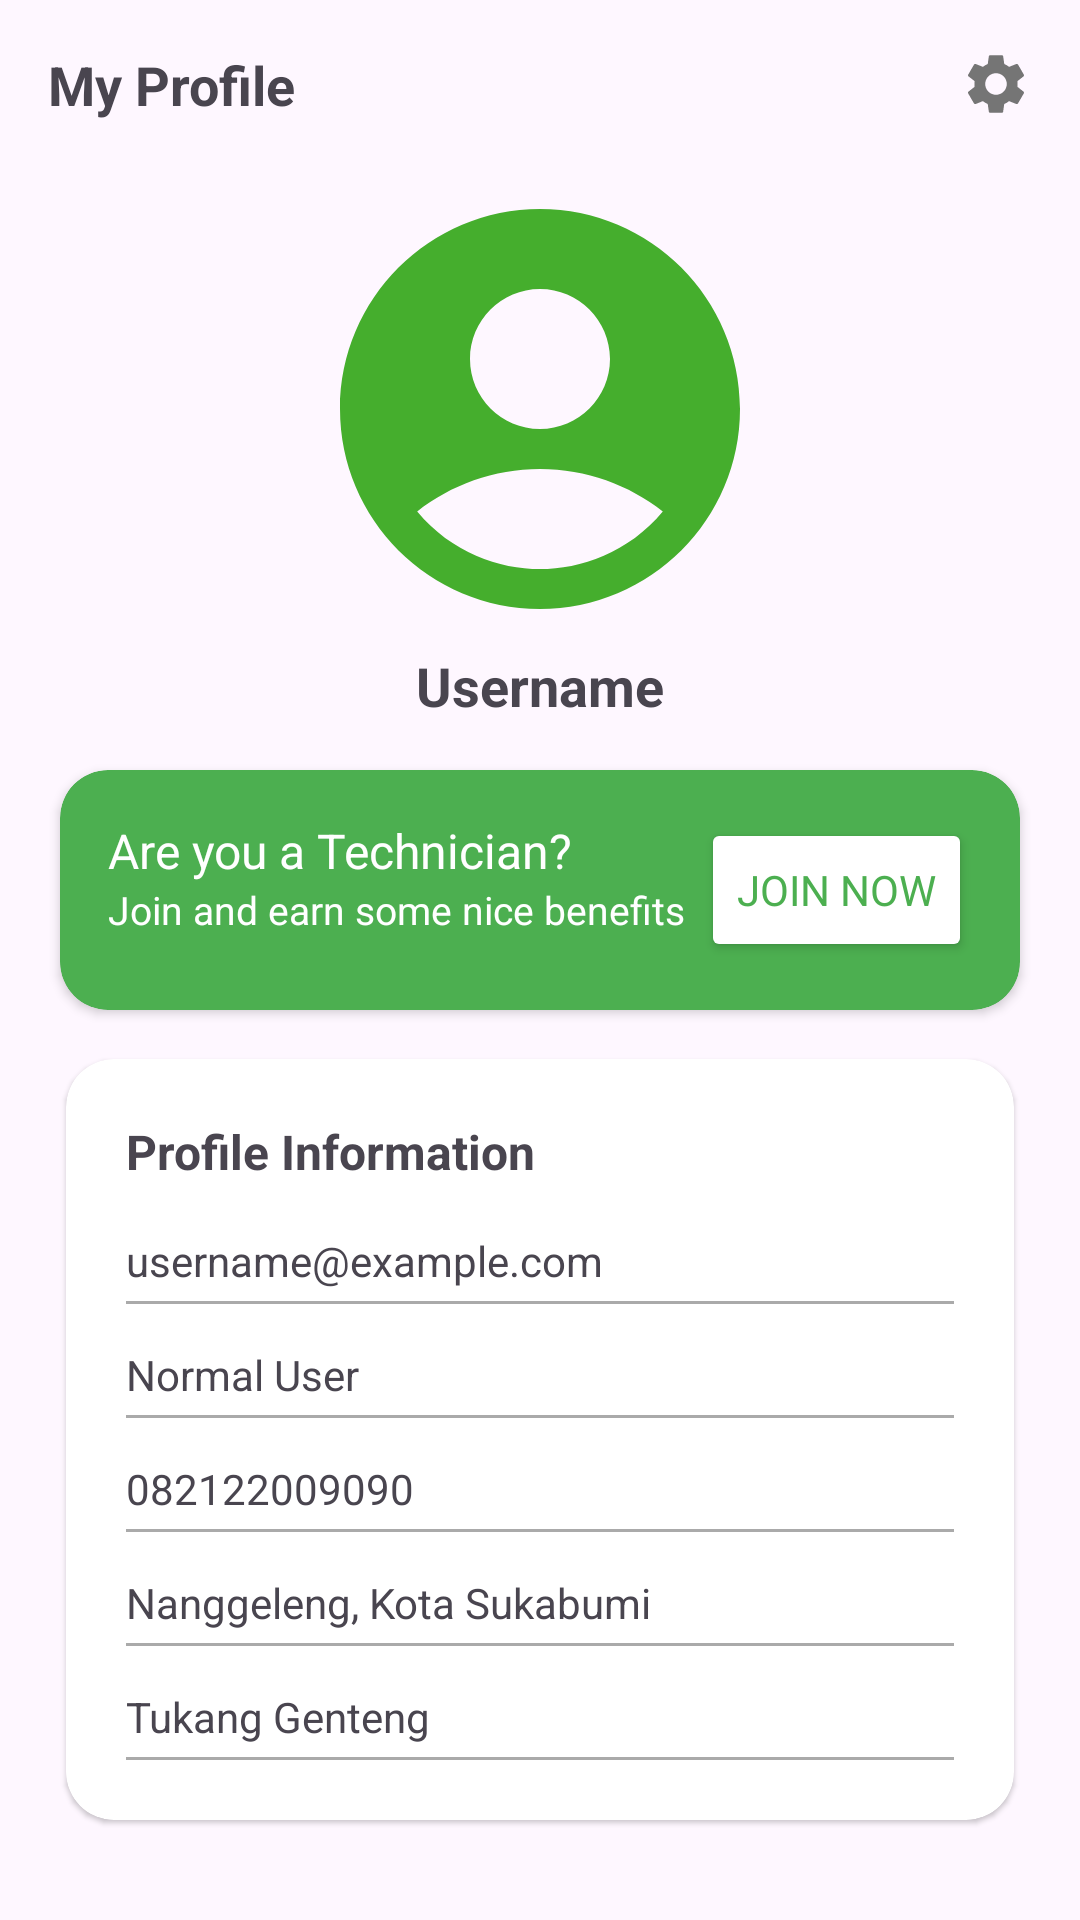

Where icons sit on this 1080*1920 app screen, as box=[x1, y1, x2, y2]:
settings: box=[968, 55, 1024, 113]
